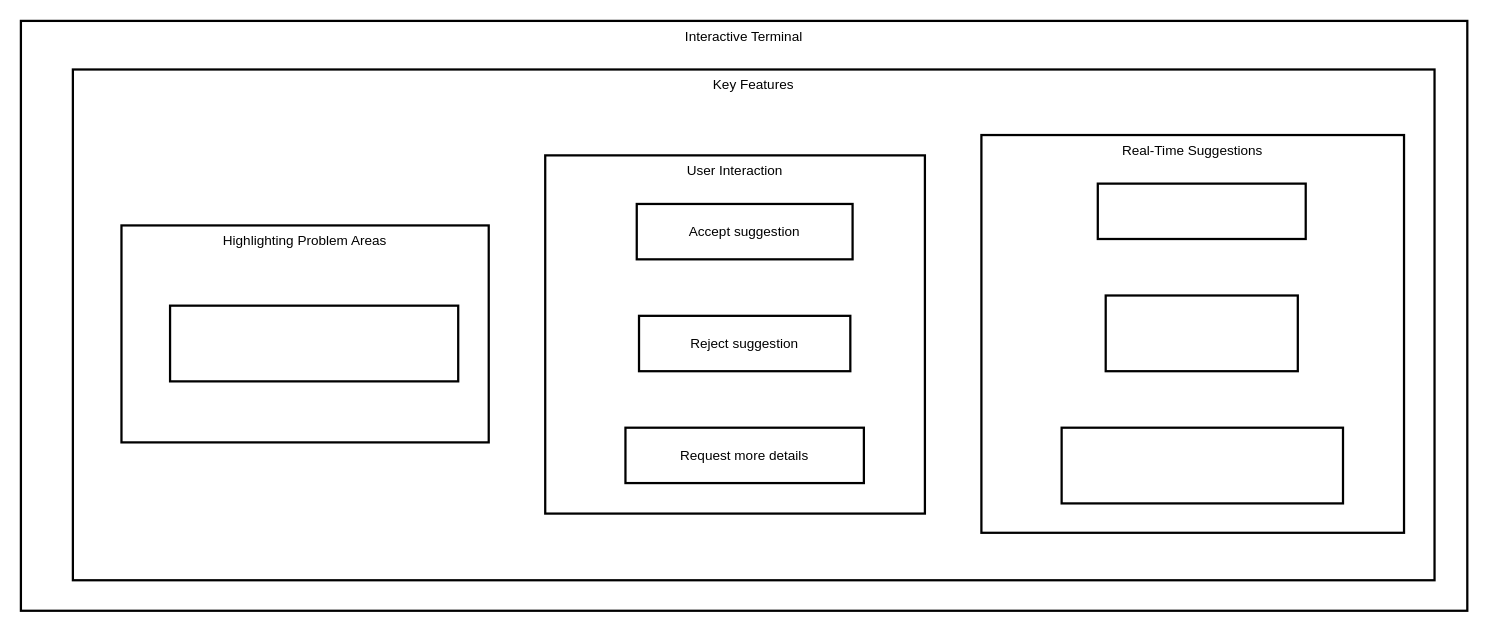
This 1487x631 diagram has some shape labels left out. Here are the shapes that lost their labels. From the top down, the centre of each, then its label:
At [1201,211]: "Write code in IDE".
At [313,343]: "Terminal highlights problem areas".
At [1201,333]: "Terminal shows suggestions".
At [1202,465]: "Terminal shows alternative approaches".
